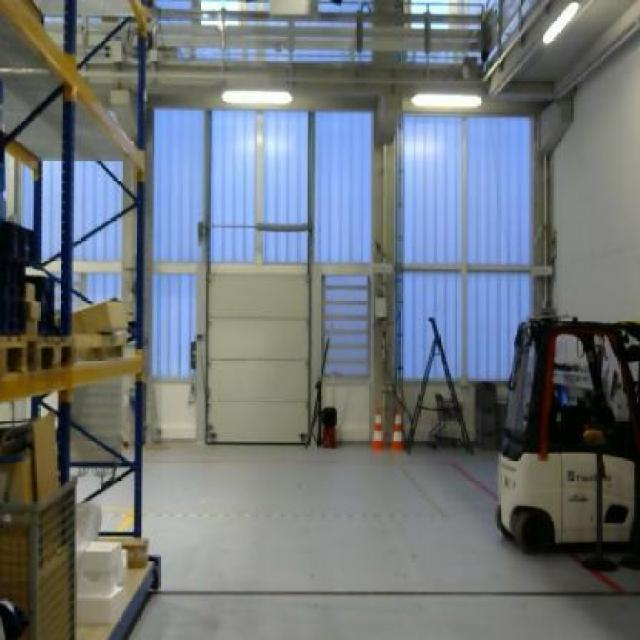box: (68, 298, 128, 334)
